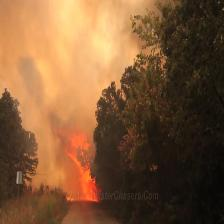fire: (56, 125, 100, 203)
